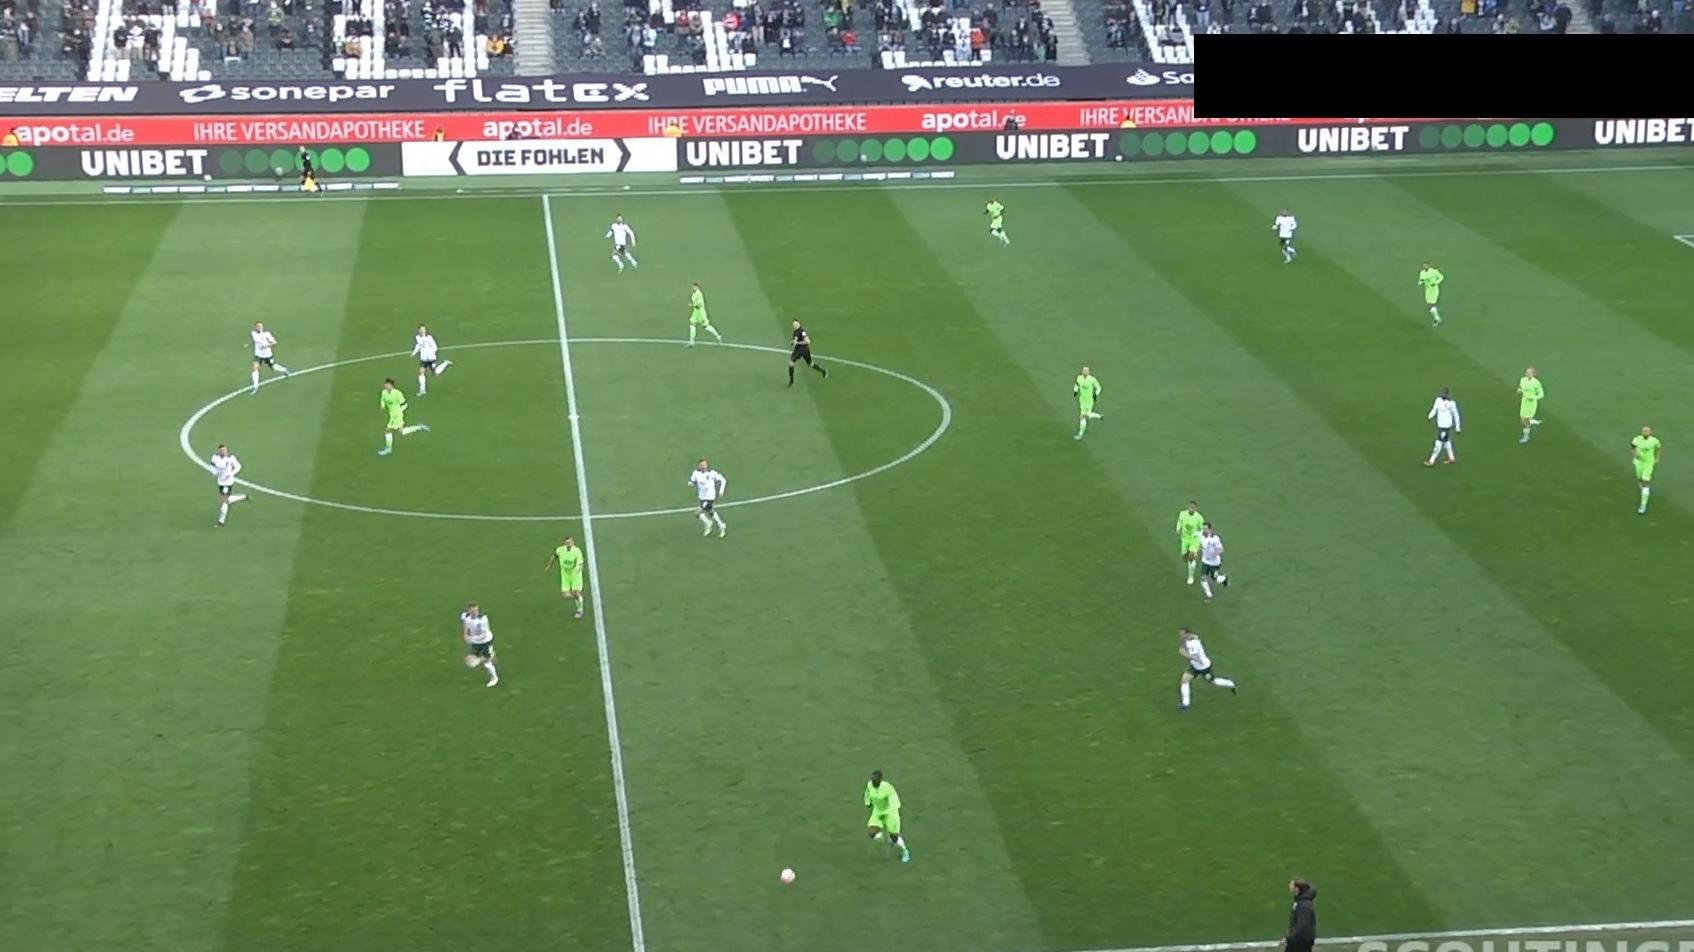ball: (778, 866, 798, 887)
